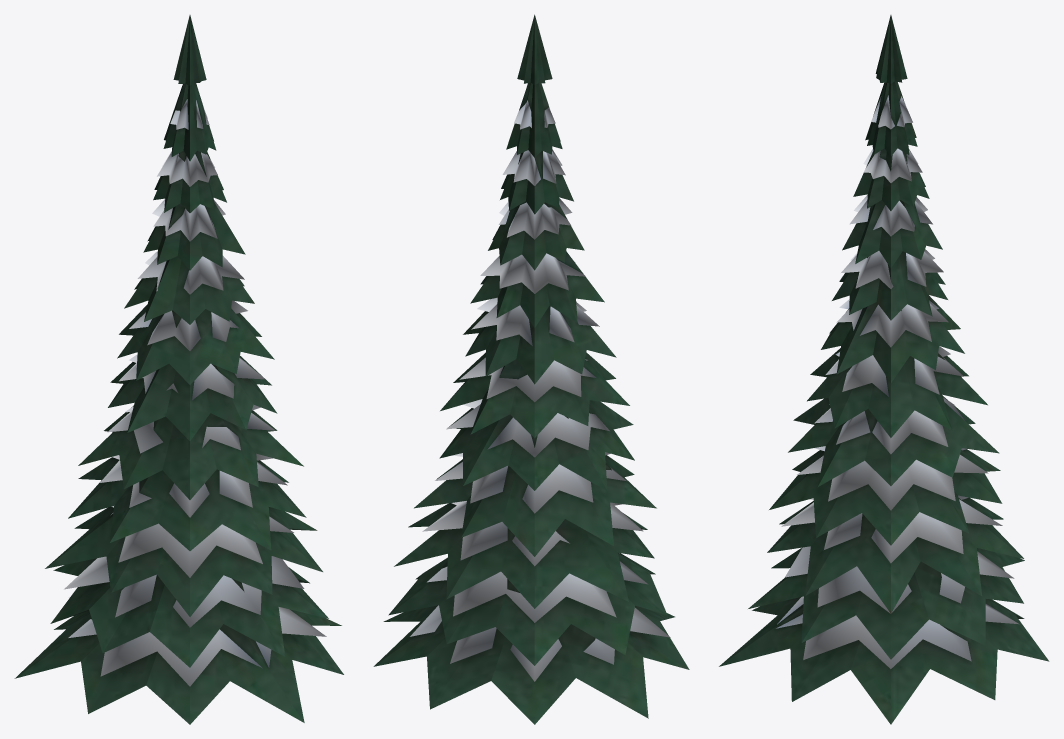
The model's file is pine.glb.
3 views of the same model, side by side, from view 1: azimuth 30°, elevation 25°; view 2: azimuth 150°, elevation 25°; view 3: azimuth 270°, elevation 25° (orthographic).
Visible parts, largest first — view 1: pine, pine_snow; view 2: pine, pine_snow; view 3: pine, pine_snow.
Part boxes in pixels (box(x1,y1,x2,y2)): pine: box(14, 15, 343, 724); pine_snow: box(64, 99, 326, 686); pine: box(373, 14, 689, 724); pine_snow: box(410, 100, 670, 681); pine: box(719, 15, 1049, 724); pine_snow: box(776, 95, 1019, 668).
Bounding box in the file's own units: 6.05 × 13.4 × 5.93.
2 materials, 1 textured.
